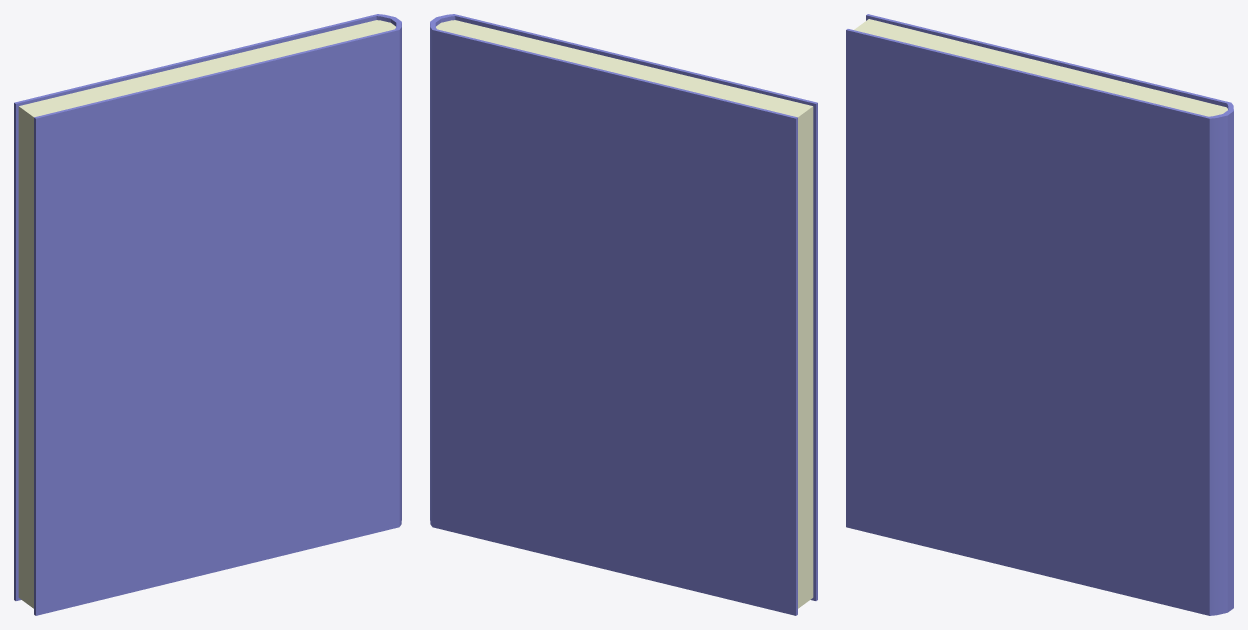
The model's file is newbook1.fbx.
3 views of the same model, side by side, from view 1: azimuth 30°, elevation 25°; view 2: azimuth 150°, elevation 25°; view 3: azimuth 330°, elevation 25° (orthographic).
Parts seen in each view (by area): view 1: Book1; view 2: Book1; view 3: Book1.
Part boxes in pixels (left/top/right/bottom): Book1: left=14, top=14, right=401, bottom=615; Book1: left=430, top=14, right=817, bottom=615; Book1: left=846, top=14, right=1233, bottom=615.
Size of the model in its own units: 18.26 by 23.2 by 1.85.
